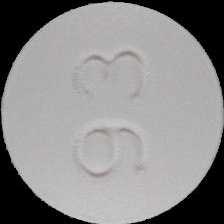63187-128: (0, 0, 224, 224)
